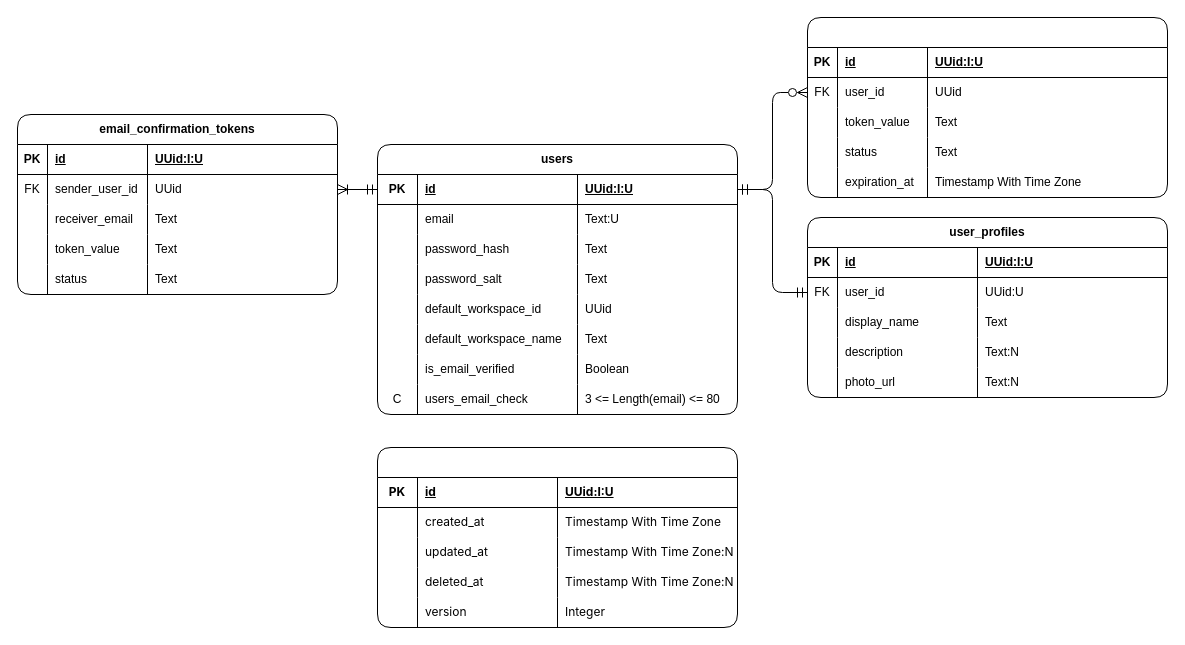
The diagram is 1185 pixels wide and 645 high, and some of its shapes have lost their labels. The box of each missing label's shape, as (x1, y1, x2, y2) in pixels:
* audit columns *: (376, 446, 738, 628)
password_reset_tokens: (806, 16, 1168, 198)
